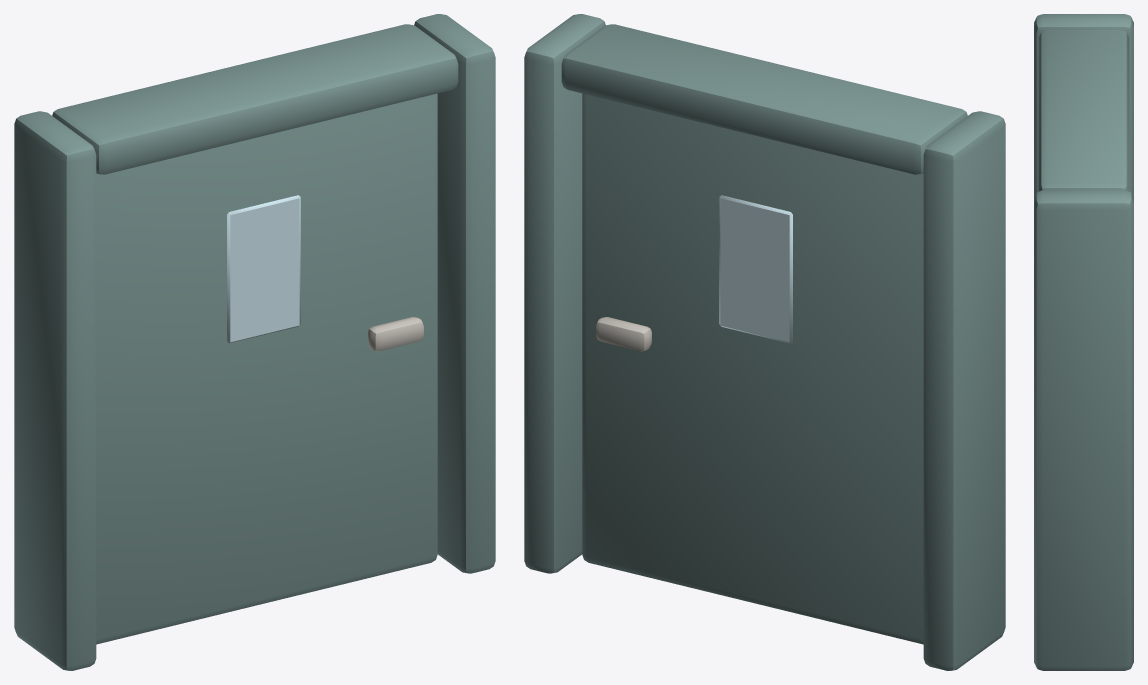
The model's file is door.glb.
The picture shows the model from 3 angles, left to right: view 1: azimuth 30°, elevation 25°; view 2: azimuth 150°, elevation 25°; view 3: azimuth 270°, elevation 25°; orthographic projection. The views are drawn at different scales.
Visible parts, largest first — view 1: paint, glass, steel; view 2: paint, glass, steel; view 3: paint.
Boxes of the visible parts, box(x1,y1,x2,y2) form: paint: box(14, 14, 495, 670); glass: box(227, 195, 300, 343); steel: box(368, 317, 423, 351); paint: box(524, 14, 1005, 670); glass: box(719, 195, 792, 343); steel: box(596, 317, 651, 351); paint: box(1034, 14, 1133, 670).
Size of the model in its own units: 1 by 1.15 by 0.22.
